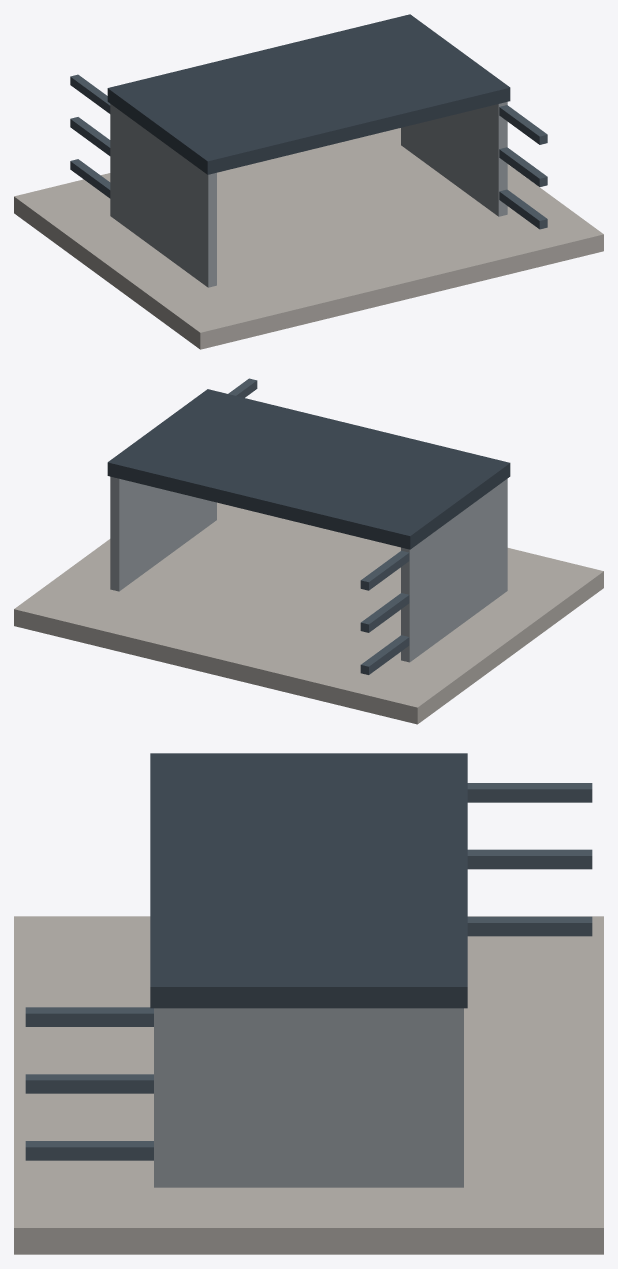
File: escenario_subway.glb
3 views of the same model, one above another, from view 1: azimuth 30°, elevation 25°; view 2: azimuth 150°, elevation 25°; view 3: azimuth 270°, elevation 25° (orthographic). The views are drawn at different scales.
Bounding box in the file's own units: 5 × 1.89 × 4.
